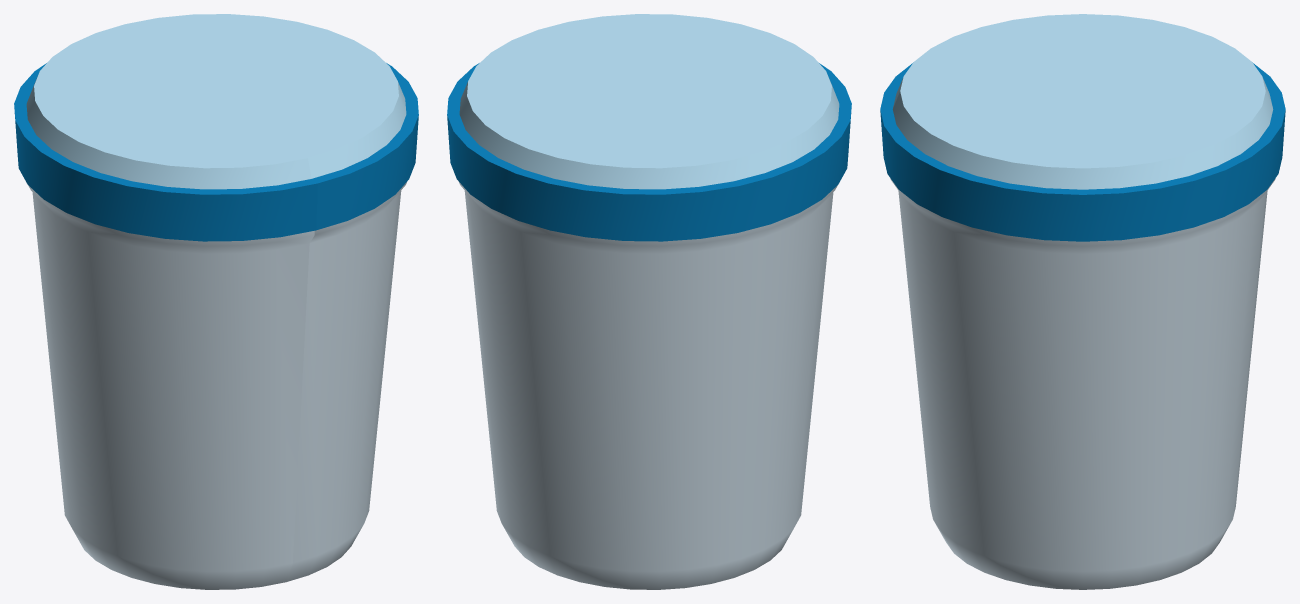
Rendered from ice-cream-tub.glb.
3 renders of one model, left to right at view 1: azimuth 30°, elevation 25°; view 2: azimuth 150°, elevation 25°; view 3: azimuth 270°, elevation 25°, orthographic.
Visible parts, largest first — view 1: Tub_Body, Snap_Lid_Crown, Snap_Lid_Rim; view 2: Tub_Body, Snap_Lid_Crown, Snap_Lid_Rim; view 3: Tub_Body, Snap_Lid_Crown, Snap_Lid_Rim.
Part boxes in pixels (x1,y1,x2,y2): Tub_Body: (28, 182, 406, 589); Snap_Lid_Crown: (26, 14, 406, 189); Snap_Lid_Rim: (14, 63, 418, 241); Tub_Body: (459, 182, 837, 589); Snap_Lid_Crown: (459, 14, 839, 189); Snap_Lid_Rim: (447, 63, 851, 241); Tub_Body: (890, 178, 1275, 589); Snap_Lid_Crown: (892, 14, 1273, 189); Snap_Lid_Rim: (880, 62, 1285, 241).
Bounding box in the file's own units: 0.122 × 0.146 × 0.122.
